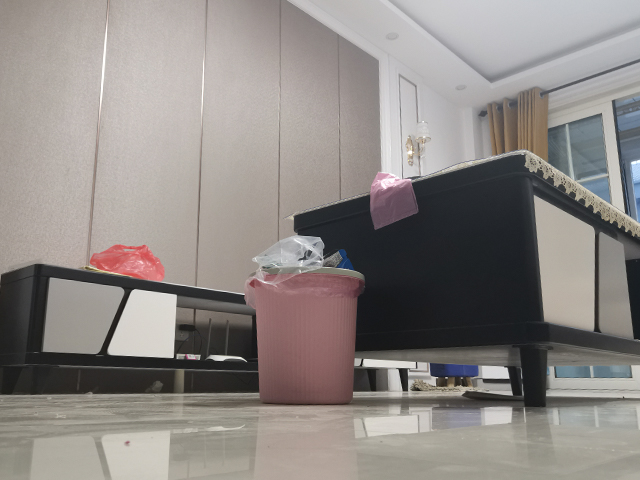cabinet: (1, 261, 258, 394)
carpet: (409, 379, 475, 393)
stool: (429, 362, 480, 389)
table: (281, 149, 640, 410)
trashcan: (247, 265, 367, 406)
